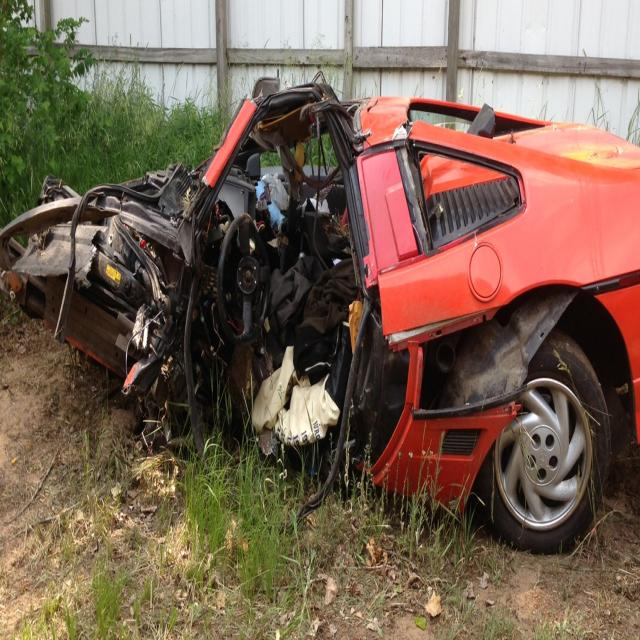crush: (0, 78, 580, 522)
